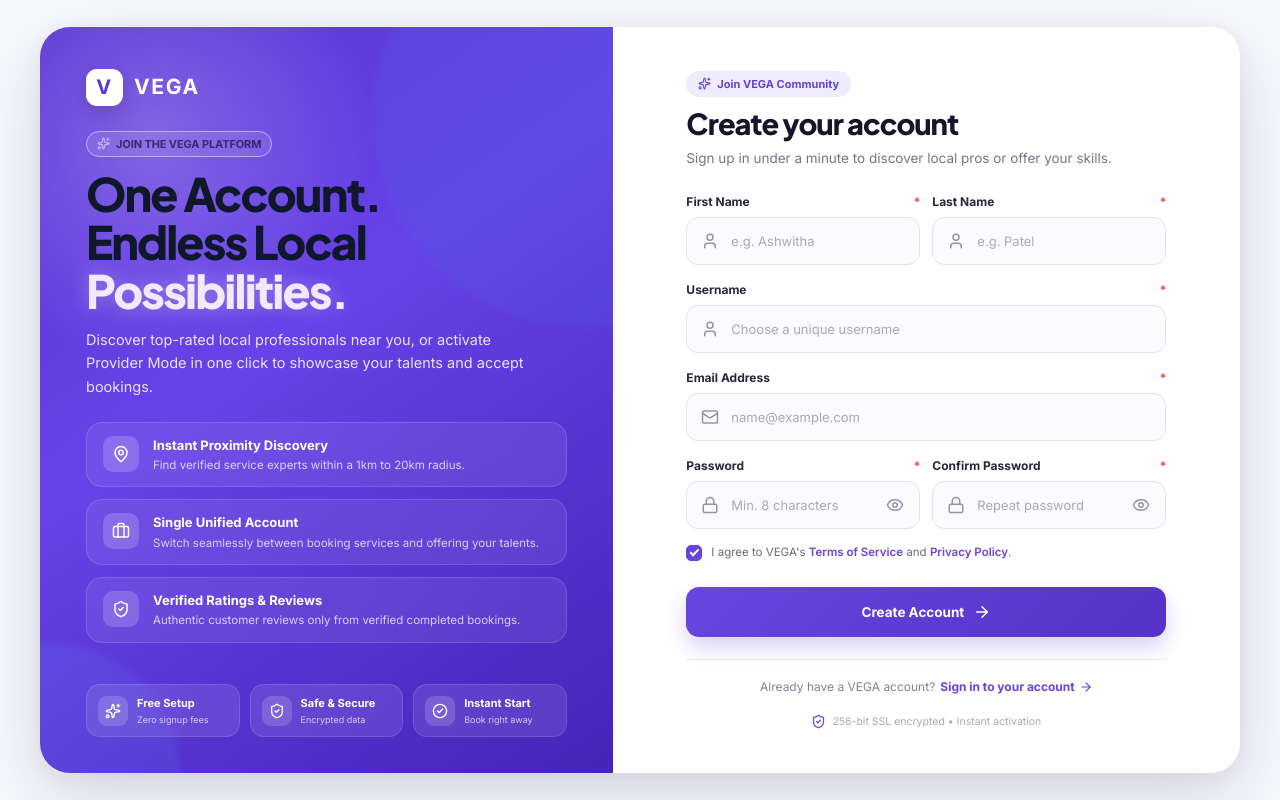
Test case: VEGA Registration Page UI, Validation and Error Handling › validates empty mandatory fields and displays field-specific error messages
Click the button "Create Account". click: [926, 612]
box: [686,587,1166,637]
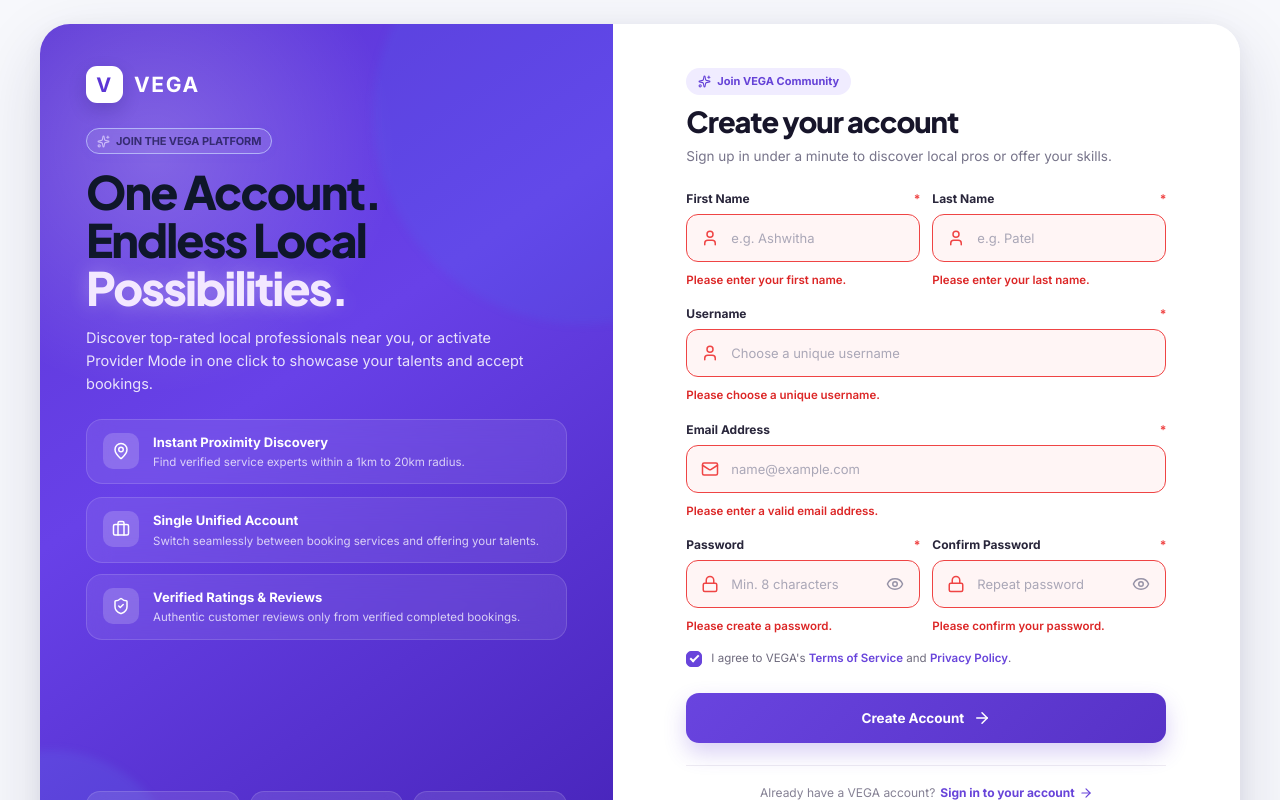
Expected: the text "Please enter your first name." is shown, [686,273,846,287]
Expected: the text "Please enter your last name." is shown, [932,273,1090,287]
Expected: the text "Please choose a unique username." is shown, [686,388,880,402]
